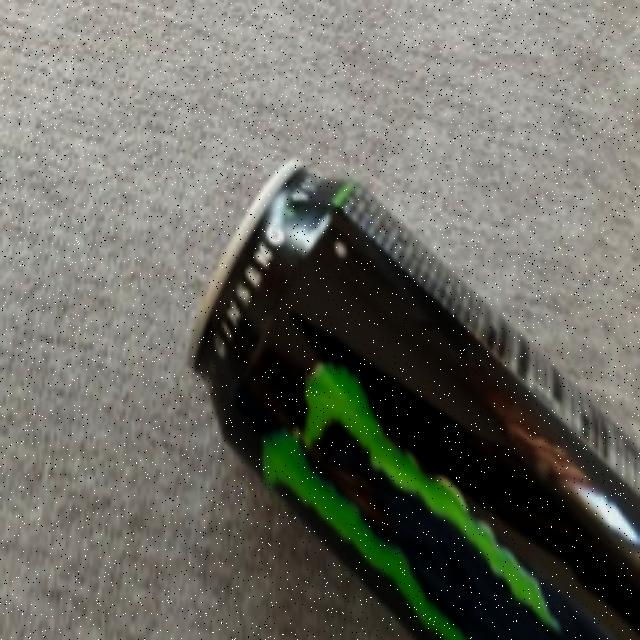Metal: (179, 158, 640, 639), (639, 158, 640, 639)
